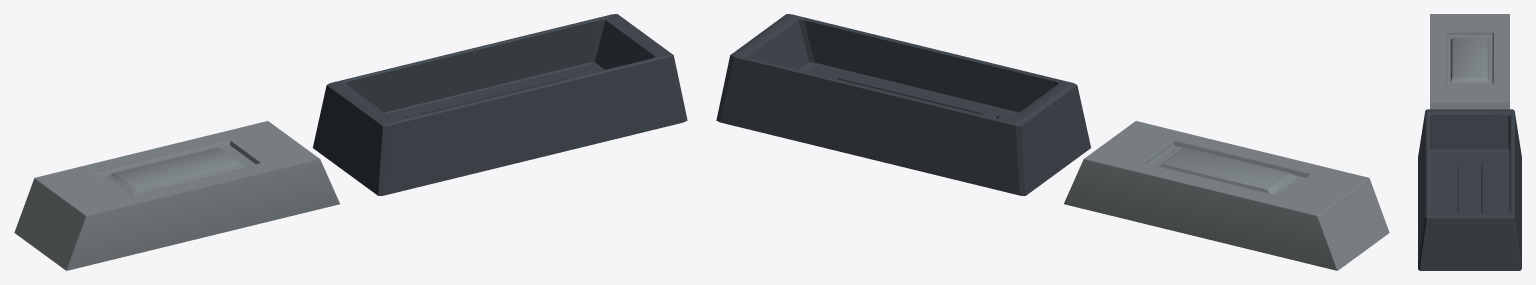
Rendered from Mold+Ingot.fbx.
3 views of the same model, side by side, from view 1: azimuth 30°, elevation 25°; view 2: azimuth 150°, elevation 25°; view 3: azimuth 270°, elevation 25° (orthographic). The views are drawn at different scales.
Visible parts, largest first — view 1: MoldIron, IronIngot; view 2: MoldIron, IronIngot; view 3: MoldIron, IronIngot.
Part boxes in pixels (<box>): MoldIron: <box>313,14,687,195</box>; IronIngot: <box>14,121,339,270</box>; MoldIron: <box>716,14,1090,195</box>; IronIngot: <box>1064,121,1389,270</box>; MoldIron: <box>1418,109,1521,270</box>; IronIngot: <box>1430,14,1509,109</box>.
Size of the model in its own units: 101 by 11.11 by 19.23.
